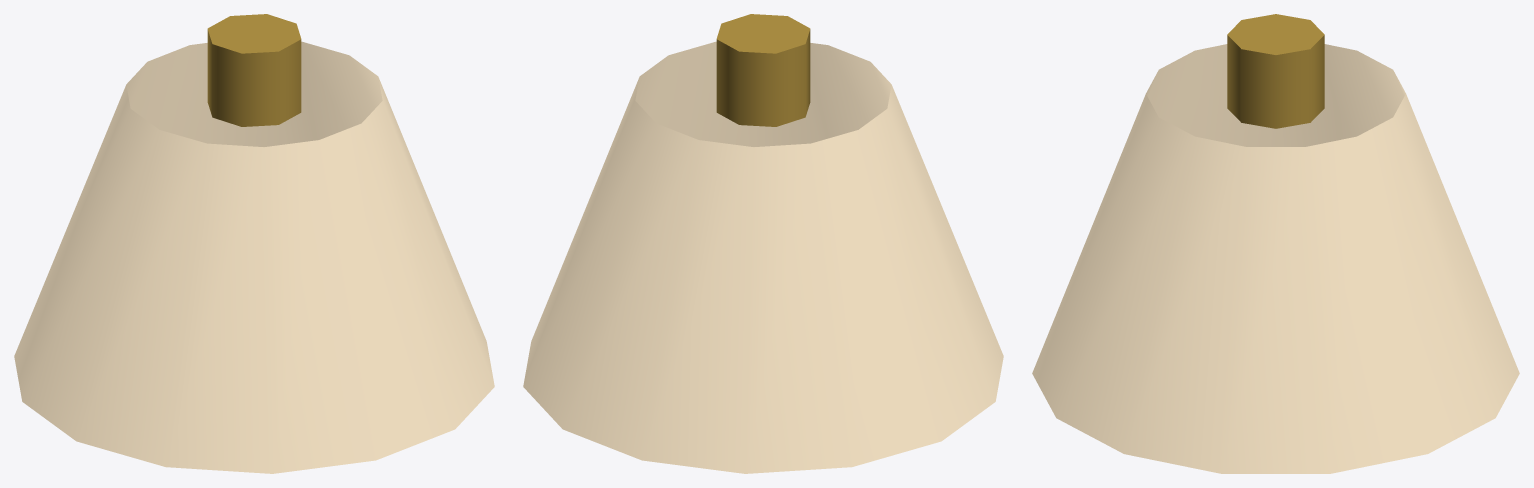
The model's file is lamp-sink.glb.
The picture shows the model from 3 angles, left to right: view 1: azimuth 30°, elevation 25°; view 2: azimuth 150°, elevation 25°; view 3: azimuth 270°, elevation 25°; orthographic projection.
Parts seen in each view (by area): view 1: lamp-sink; view 2: lamp-sink; view 3: lamp-sink.
Boxes of the visible parts, box(x1,y1,x2,y2) form: lamp-sink: box(14, 14, 494, 473); lamp-sink: box(523, 14, 1003, 473); lamp-sink: box(1032, 14, 1519, 473).
Size of the model in its own units: 0.585 by 0.46 by 0.6.
